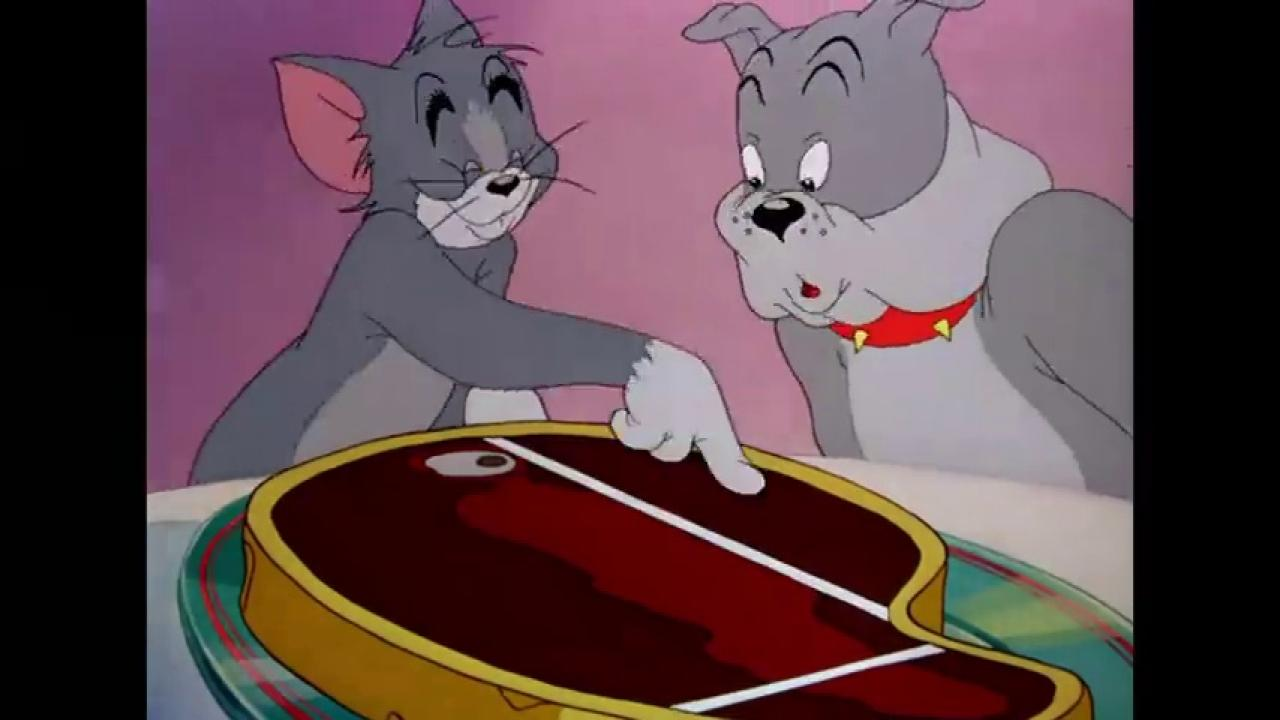Tom: (183, 0, 766, 498)
